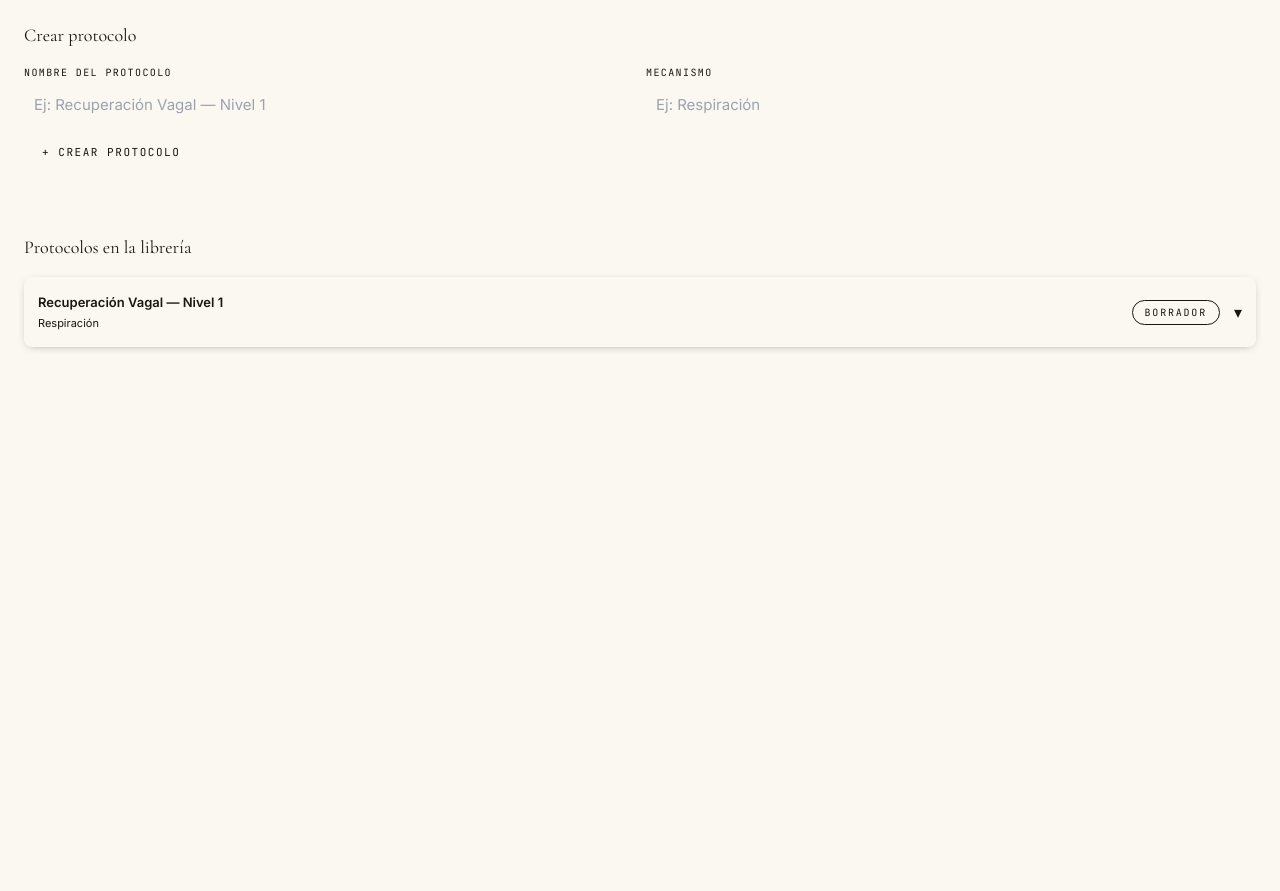
Scenario: AdminStressProtocolsPanel › shows and previews a YouTube link only for "Meditación guiada" resources
Click the button "Recuperación Vagal — Nivel 1 Respiración Borrador ▾".
click(131, 302)  # box left=38, top=281, right=1242, bottom=343
(page scrolled)
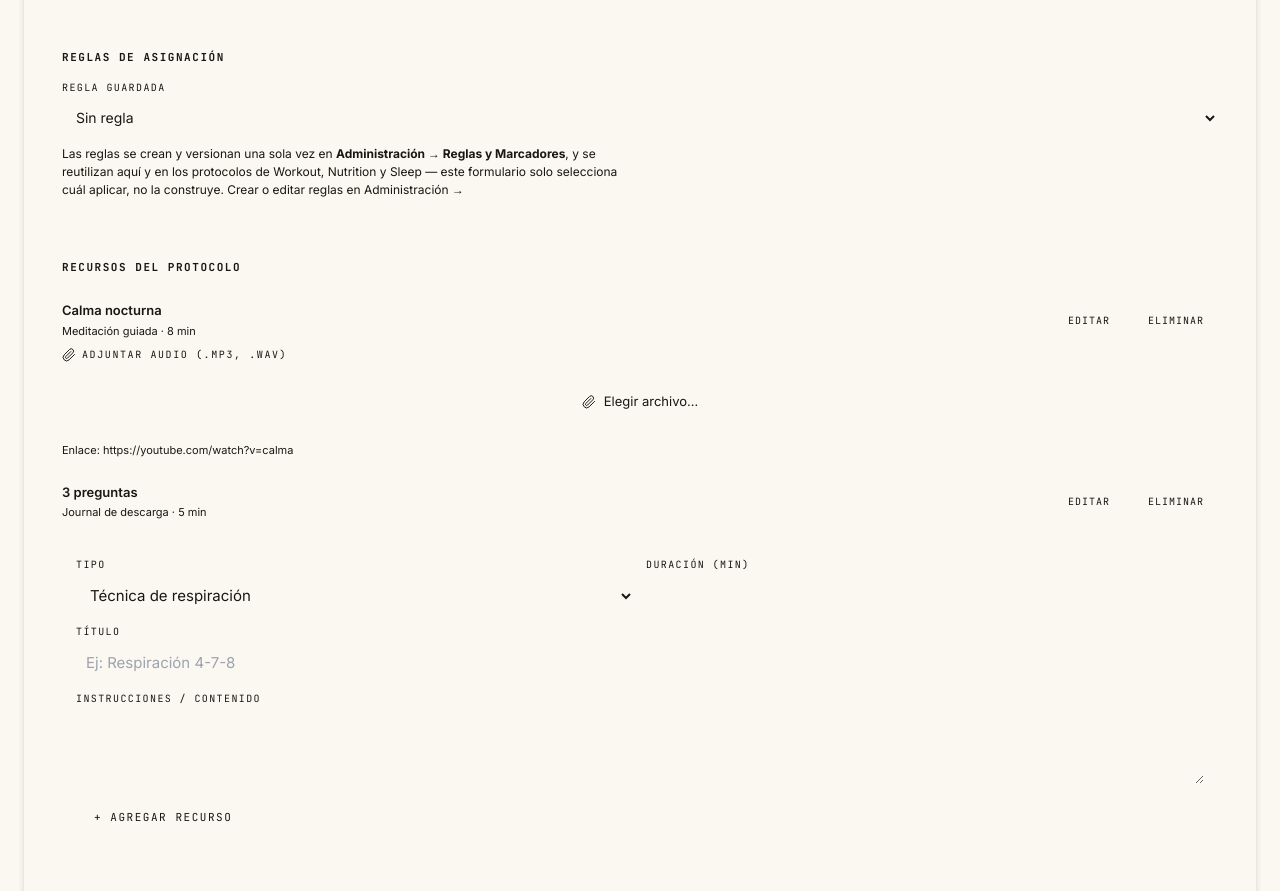
Expected: the text "Calma nocturna" is shown, left=62, top=302, right=162, bottom=318
Expected: the link "https://youtube.com/watch?v=calma" is shown, left=103, top=443, right=293, bottom=457
